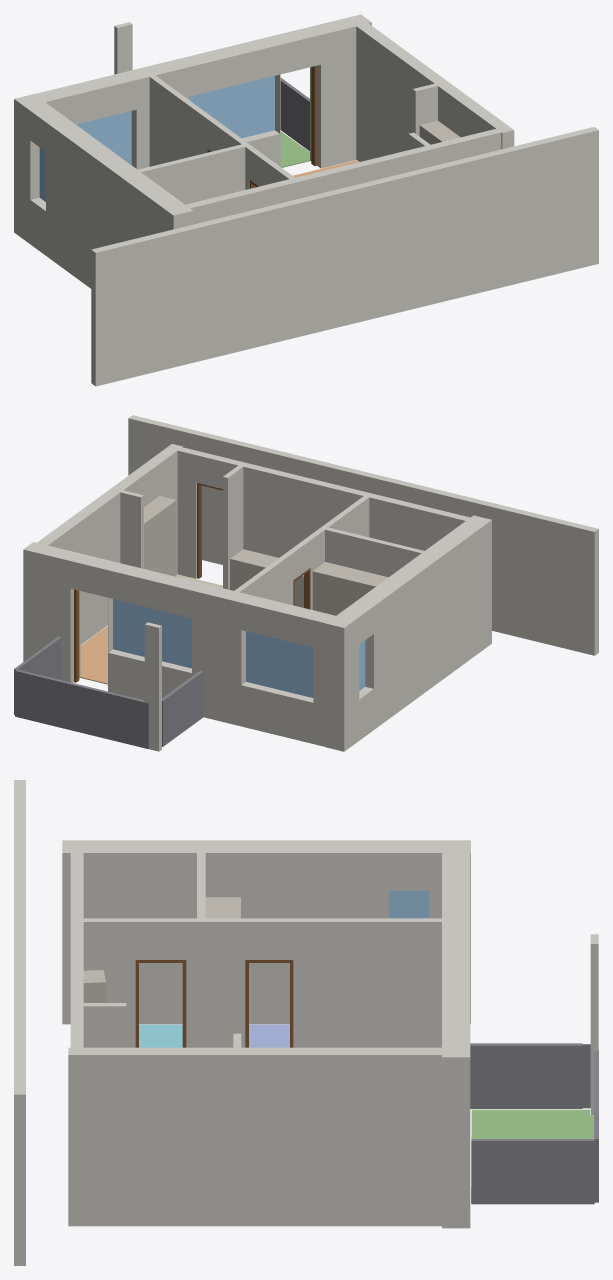
The picture shows the model from 3 angles, top to bottom: view 1: azimuth 30°, elevation 25°; view 2: azimuth 150°, elevation 25°; view 3: azimuth 270°, elevation 25°; orthographic projection. The views are drawn at different scales.
Visible parts, largest first — view 1: walls, window_2, railings, window_0, floor_5_Outdoor, furniture_1_closet, door_3; view 2: walls, railings, window_0, window_2, furniture_0_closet, furniture_1_closet, floor_1_Living_Room, furniture_4_appliance, door_3, door_4; view 3: walls, railings, floor_5_Outdoor, window_1, floor_4_Bath, floor_0_Bed_Room, door_5, door_6, furniture_0_closet, furniture_2_closet.
Part boxes in pixels (left/top/right/bottom): walls: left=14, top=14, right=598, bottom=386; window_2: left=189, top=76, right=274, bottom=138; railings: left=280, top=77, right=309, bottom=151; window_0: left=76, top=111, right=131, bottom=164; floor_5_Outdoor: left=280, top=131, right=309, bottom=167; furniture_1_closet: left=419, top=120, right=460, bottom=144; door_3: left=311, top=65, right=316, bottom=165; walls: left=23, top=415, right=598, bottom=751; railings: left=14, top=636, right=203, bottom=749; window_0: left=246, top=631, right=313, bottom=697; window_2: left=113, top=599, right=191, bottom=668; furniture_0_closet: left=312, top=562, right=388, bottom=615; furniture_1_closet: left=144, top=496, right=176, bottom=576; floor_1_Living_Room: left=80, top=626, right=107, bottom=684; furniture_4_appliance: left=230, top=549, right=278, bottom=590; door_3: left=74, top=589, right=79, bottom=682; door_4: left=197, top=483, right=222, bottom=578; walls: left=14, top=780, right=598, bottom=1265; railings: left=470, top=1043, right=598, bottom=1204; floor_5_Outdoor: left=471, top=1109, right=592, bottom=1202; window_1: left=389, top=891, right=428, bottom=918; floor_4_Bath: left=139, top=1024, right=182, bottom=1047; floor_0_Bed_Room: left=249, top=1024, right=289, bottom=1047; door_5: left=135, top=960, right=186, bottom=1047; door_6: left=245, top=960, right=293, bottom=1047; furniture_0_closet: left=205, top=897, right=240, bottom=918; furniture_2_closet: left=83, top=970, right=105, bottom=1002.
Size of the model in its own units: 10.64 by 2.72 by 8.36.
